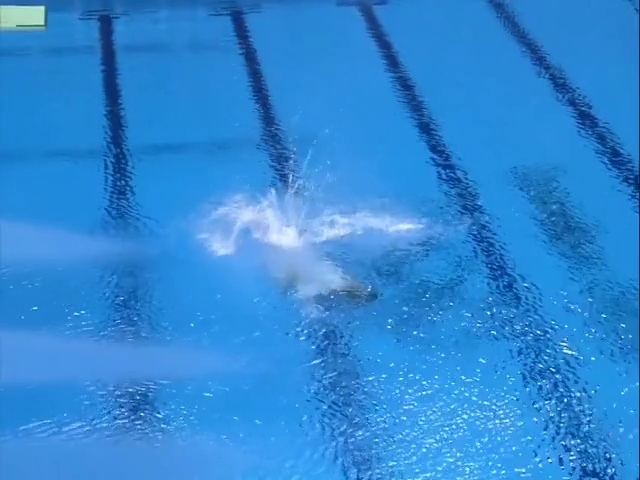splash: (204, 202, 426, 247)
